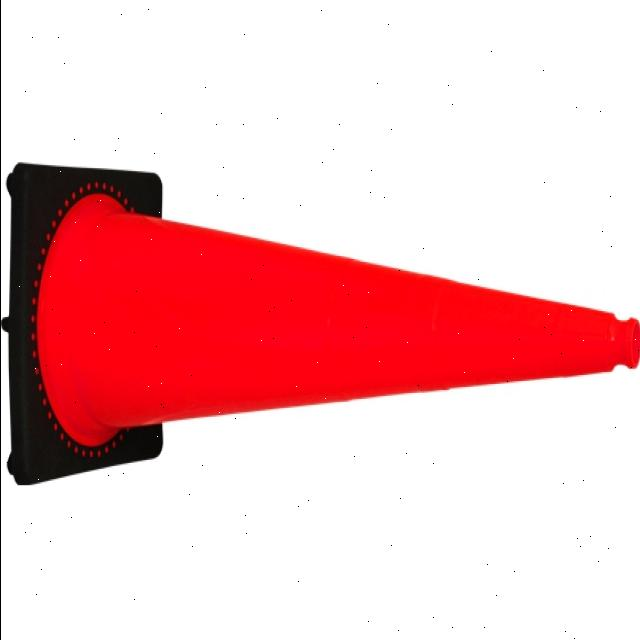traffic cone: (1, 149, 640, 503)
